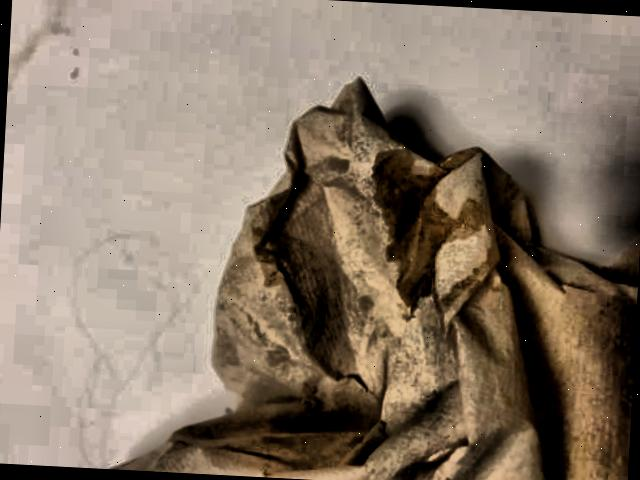Paper: (133, 75, 640, 480)
